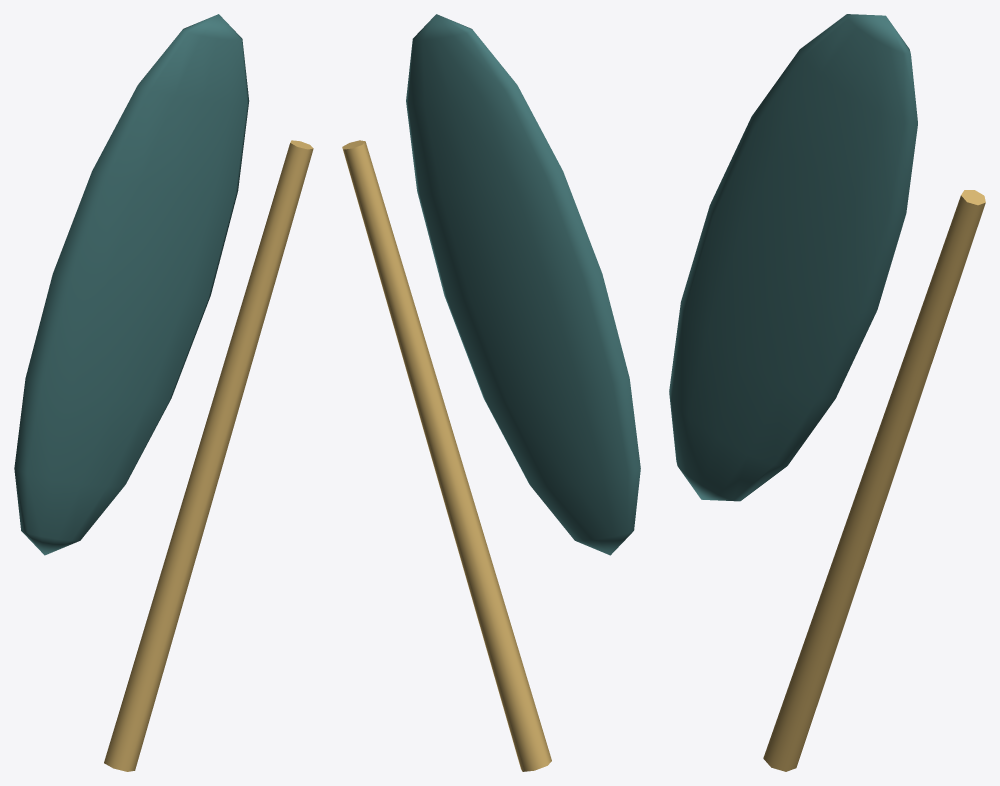
The model's file is writing-quill.glb.
3 renders of one model, left to right at view 1: azimuth 30°, elevation 25°; view 2: azimuth 150°, elevation 25°; view 3: azimuth 330°, elevation 25°, orthographic. The views are drawn at different scales.
Size of the model in its own units: 0.246 by 0.5788 by 0.0432.
